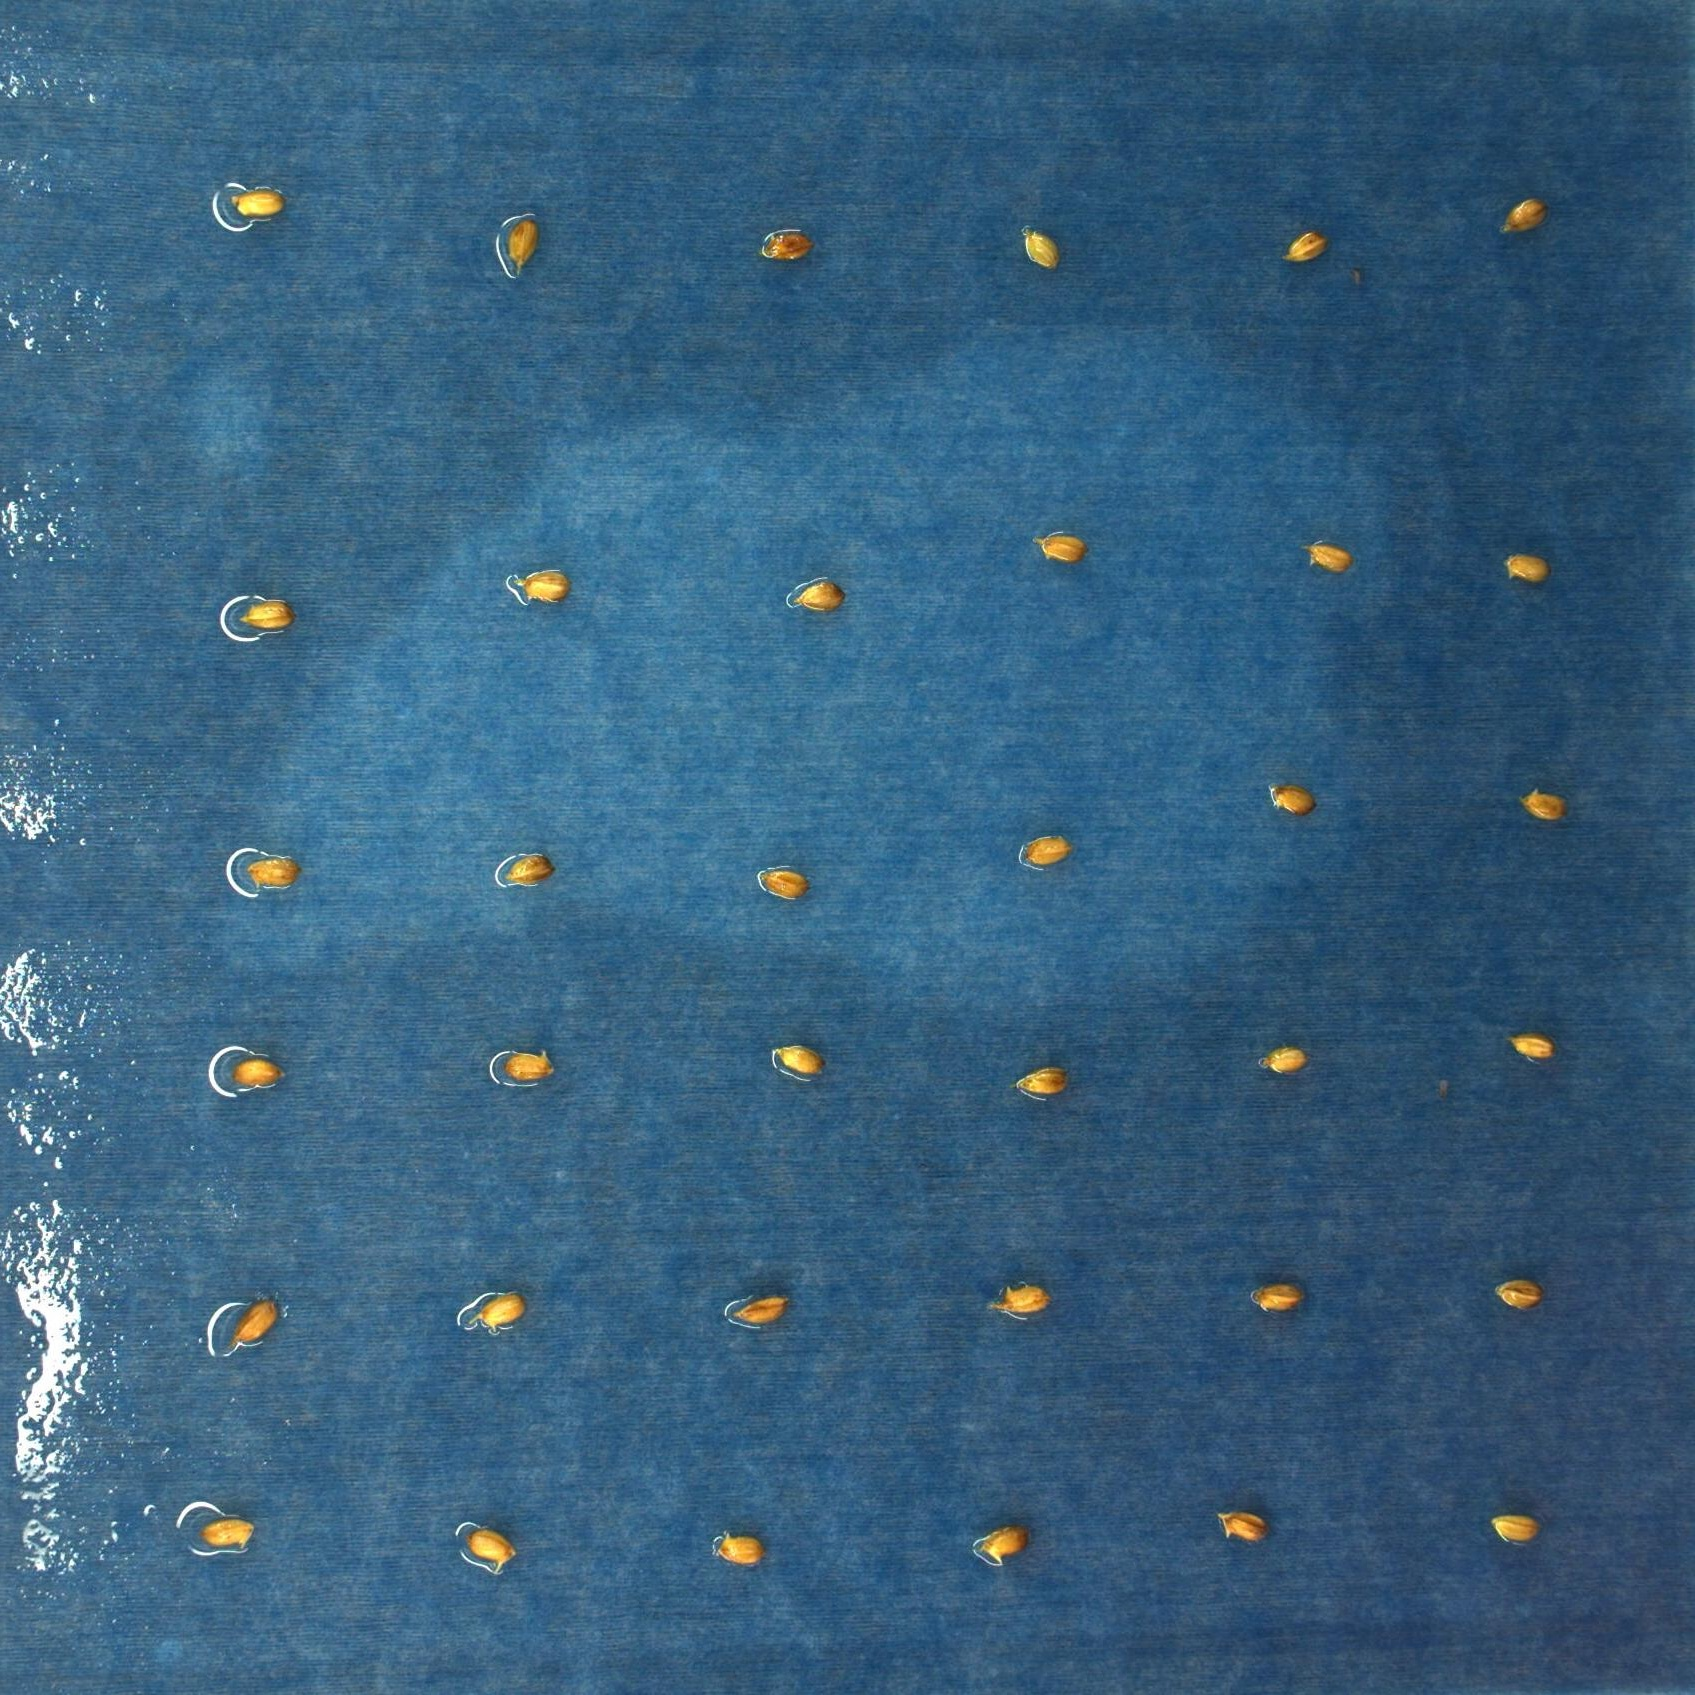not sprout: (469, 1526, 520, 1572), (1031, 529, 1093, 567), (231, 1298, 278, 1347), (1496, 197, 1548, 241), (247, 855, 303, 893), (1265, 781, 1322, 816), (512, 568, 574, 601), (990, 1281, 1055, 1312), (1215, 1509, 1271, 1544), (473, 1291, 525, 1330), (508, 216, 540, 276), (1302, 542, 1357, 577), (792, 581, 847, 615), (203, 1516, 255, 1554), (733, 1293, 793, 1324), (1021, 228, 1063, 272), (979, 1526, 1026, 1565), (716, 1534, 767, 1568), (1288, 231, 1335, 269), (504, 1051, 557, 1083), (1253, 1281, 1305, 1313), (1493, 1277, 1546, 1310), (230, 188, 286, 217), (239, 599, 295, 629), (504, 855, 557, 886), (759, 868, 812, 899), (1521, 789, 1571, 821), (1492, 1513, 1544, 1543), (231, 1059, 286, 1087), (775, 1045, 826, 1074), (1504, 553, 1552, 584), (1024, 834, 1073, 865), (1017, 1066, 1071, 1093), (764, 231, 815, 259), (1260, 1046, 1312, 1074), (1512, 1034, 1560, 1060)
